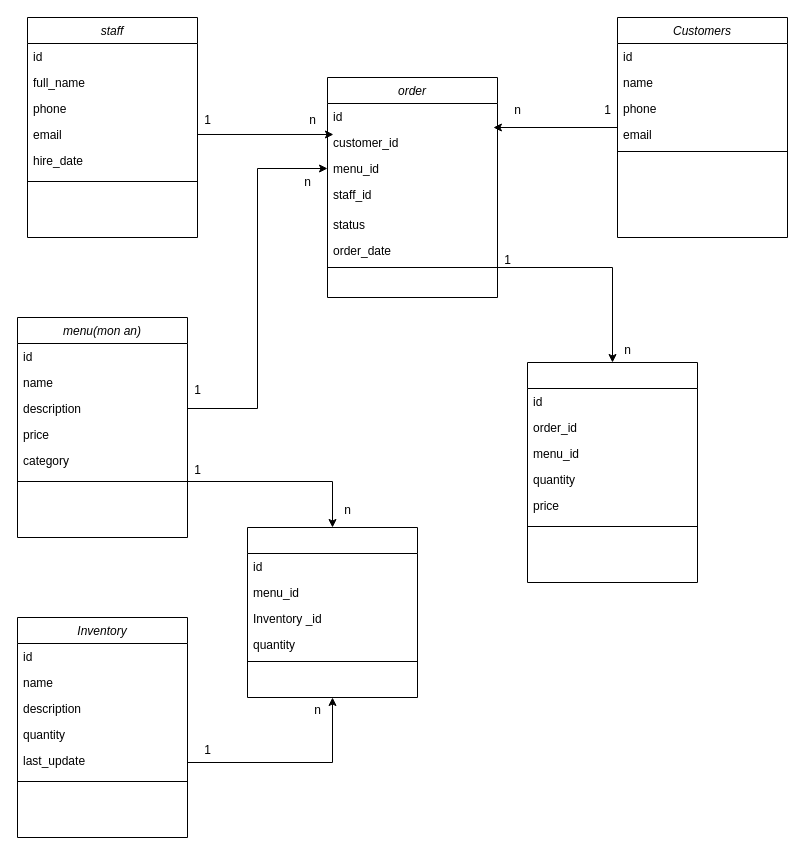
This 805x855 diagram has some shape labels left out. Each missing label, with the box of its shape:
Menu_Ingredients: (246, 526, 418, 698)
Order_Items: (526, 362, 698, 582)
